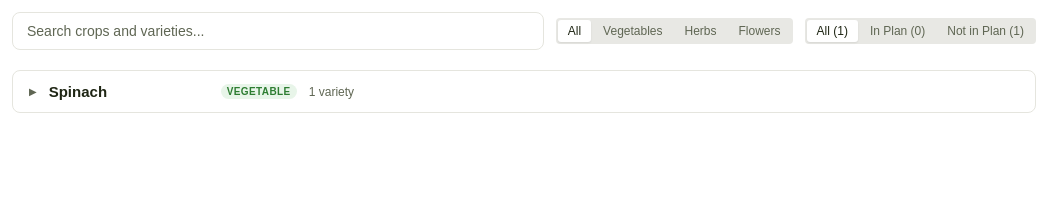
LibraryView › search filter › auto-expands crop rows when searching
Type "Bloom" into the field with placeholder "Search crops and varieties..." at (278, 31), box [12,12,544,50]
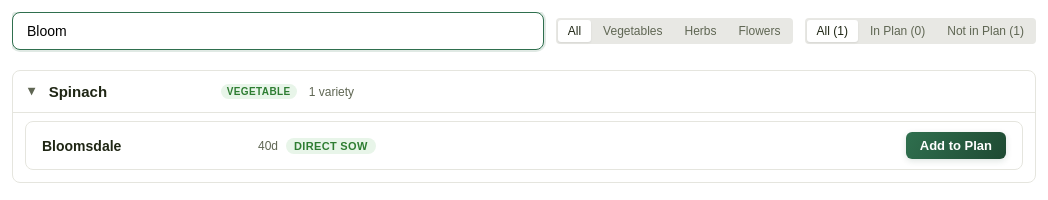
expect the text "Bloomsdale" is shown: met, box [42,138,121,154]
